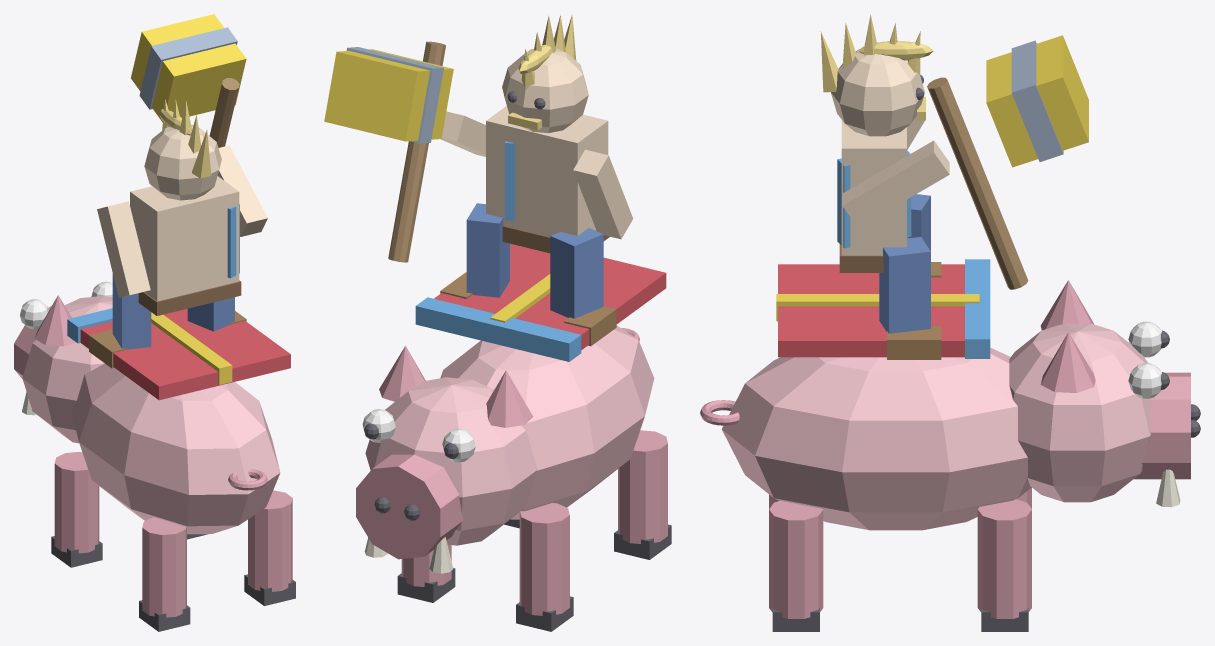
File: hog_rider.glb
3 views of the same model, side by side, from view 1: azimuth 30°, elevation 25°; view 2: azimuth 150°, elevation 25°; view 3: azimuth 270°, elevation 25° (orthographic). The views are drawn at different scales.
Visible parts, largest first — view 1: hog_rider; view 2: hog_rider; view 3: hog_rider.
Boxes of the visible parts, x1,y1,x2,y2 form: hog_rider: [14, 14, 295, 631]; hog_rider: [324, 14, 671, 631]; hog_rider: [700, 14, 1200, 631].
Size of the model in its own units: 1.4 by 3.51 by 2.76.
